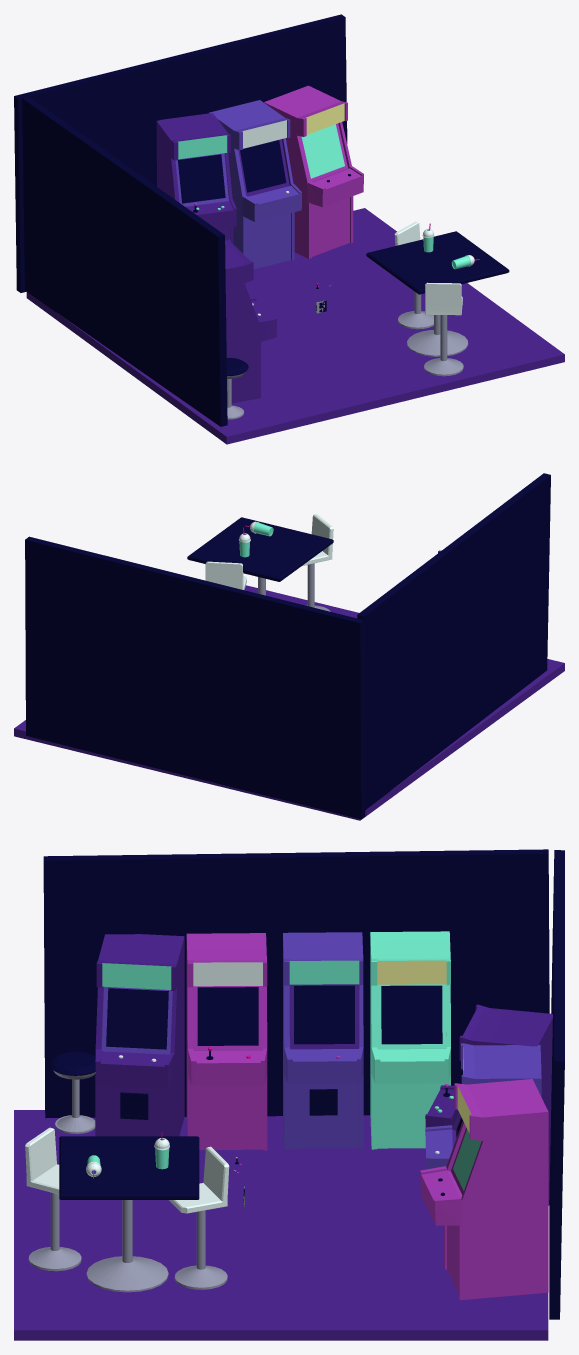
3 views of the same model, one above another, from view 1: azimuth 30°, elevation 25°; view 2: azimuth 150°, elevation 25°; view 3: azimuth 270°, elevation 25° (orthographic). The views are drawn at different scales.
Parts seen in each view (by area): view 1: pCube22, pCube1, pCube3, arcadecabnet5, arcadecabnet4, arcadecabnet3, arcade_cabanet:arcadecabnet, Table:table, Table:leg, chair:seat, chair:leg, stool:pCylinder1 (+1 smaller); view 2: pCube3, pCube22, Table:table, pCube1, seat, chair:seat; view 3: pCube1, pCube22, arcadecabnet5, arcadecabnet, arcade_cabanet:arcadecabnet, arcadecabnet1, arcadecabnet2, Table:table, pCube3, arcadecabnet3, arcadecabnet4, Table:leg (+7 smaller).
Part boxes in pixels (x1,y1,x2,y2): pCube22: (22,96,227,426); pCube1: (26,208,564,444); pCube3: (14,14,347,292); arcadecabnet5: (264,85,363,258); arcadecabnet4: (209,100,301,269); arcadecabnet3: (156,113,236,243); arcade_cabanet:arcadecabnet: (225,239,277,403); Table:table: (366,231,509,294); Table:leg: (407,315,468,356); chair:seat: (425,282,462,315); chair:leg: (424,315,463,376); stool:pCylinder1: (226,357,248,419); pCube3: (25,536,365,819); pCube22: (357,473,550,809); Table:table: (187,517,333,581); pCube1: (14,585,564,820); seat: (205,561,246,589); chair:seat: (302,514,333,565); pCube1: (14,1110,548,1340); pCube22: (43,849,549,1118); arcadecabnet5: (420,1079,548,1300); arcadecabnet: (186,933,267,1150); arcade_cabanet:arcadecabnet: (95,934,184,1136); arcadecabnet1: (283,932,363,1149); arcadecabnet2: (370,931,450,1149); Table:table: (59,1136,199,1199); pCube3: (549,850,564,1319); arcadecabnet3: (425,1004,552,1205); arcadecabnet4: (425,1043,541,1169); Table:leg: (86,1200,168,1292).
Size of the model in its own units: 21.22 by 11.82 by 22.
7 materials, 7 textured.
